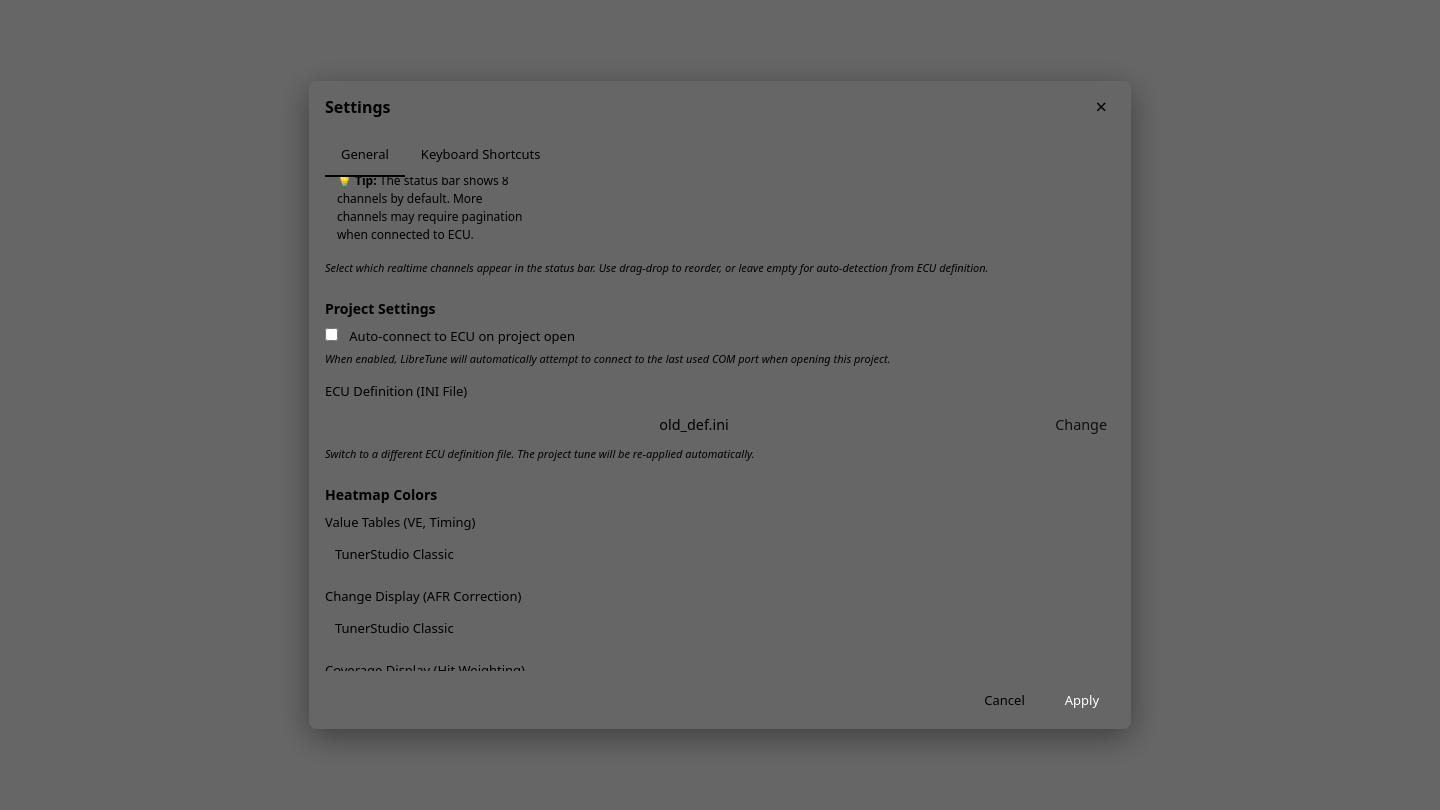
it: SettingsDialog › clicking INI Change button opens file picker and updates filename
(page scrolled)
Click to change INI
Click the button "old_def.ini Change" at (720,424), box left=325, top=407, right=1115, bottom=442
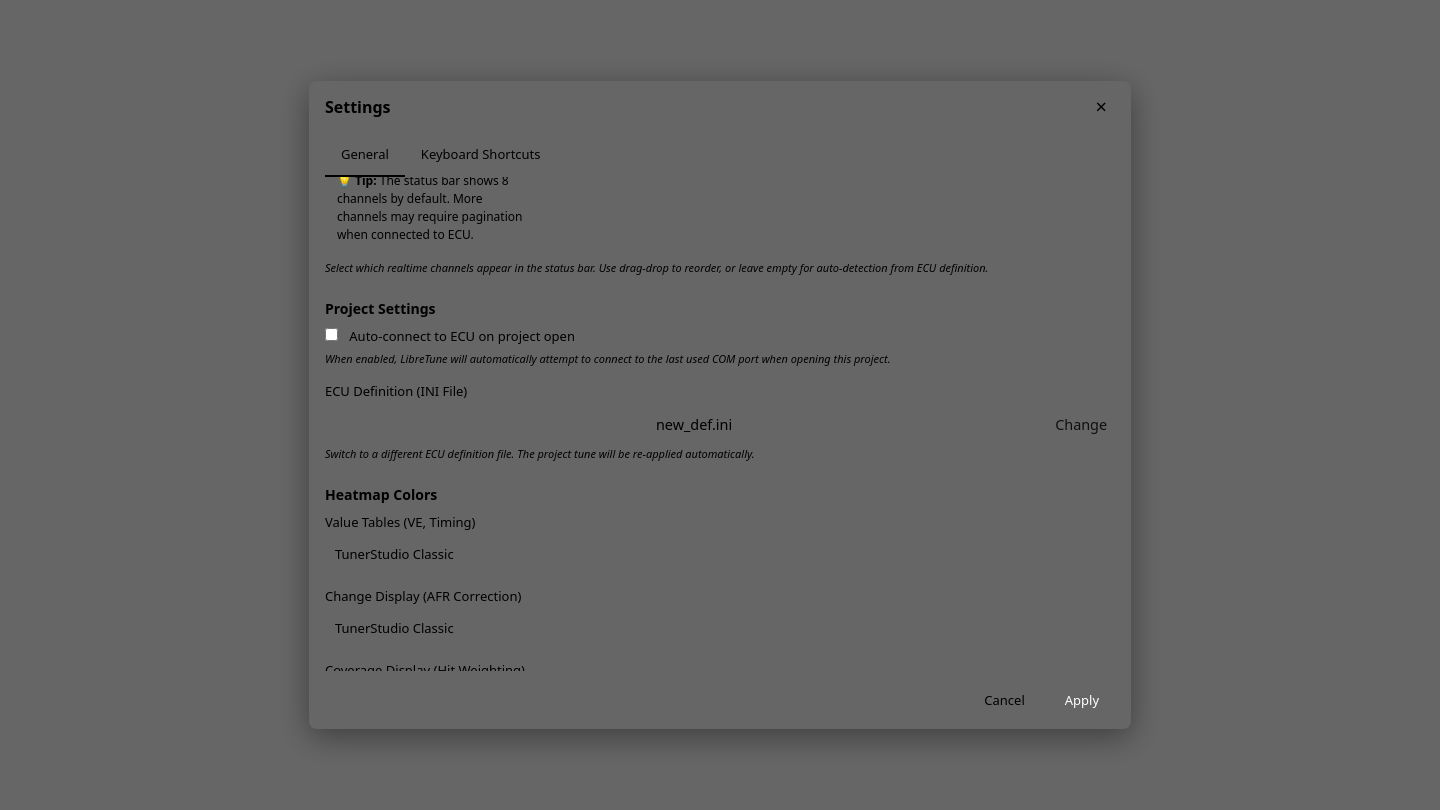
Result: the button "new_def.ini Change" is shown at left=325, top=407, right=1115, bottom=442
